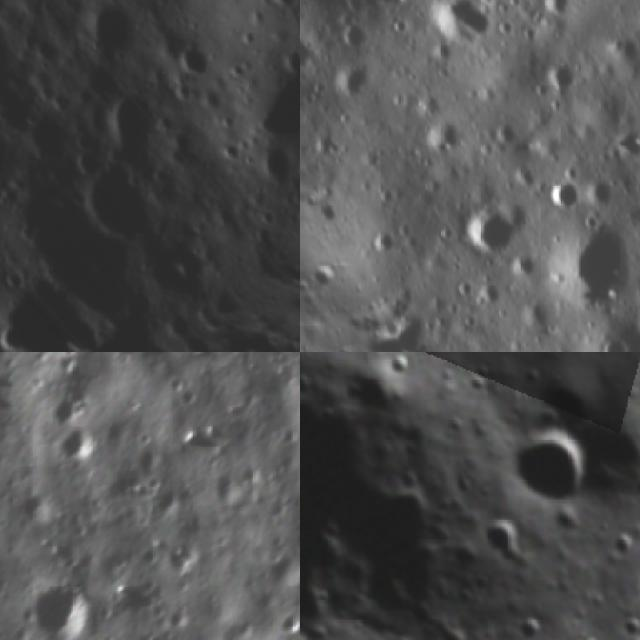crater: (300, 352, 466, 640), (0, 157, 177, 352), (66, 145, 183, 263), (496, 398, 611, 518), (536, 204, 640, 329), (0, 266, 109, 352), (86, 78, 180, 172), (225, 49, 300, 165), (569, 399, 640, 493), (451, 194, 531, 277), (70, 0, 147, 67), (426, 0, 500, 60), (0, 82, 37, 196), (476, 505, 540, 569), (22, 582, 88, 640), (164, 36, 224, 96), (416, 111, 473, 168), (325, 58, 381, 113), (248, 140, 300, 195), (512, 288, 564, 342), (536, 53, 588, 106), (150, 299, 202, 351), (66, 323, 158, 352), (543, 172, 590, 222), (467, 269, 512, 317), (52, 431, 94, 476), (566, 352, 640, 375), (263, 557, 300, 591), (49, 391, 82, 427), (300, 29, 321, 83), (260, 0, 300, 22), (274, 607, 300, 640)
